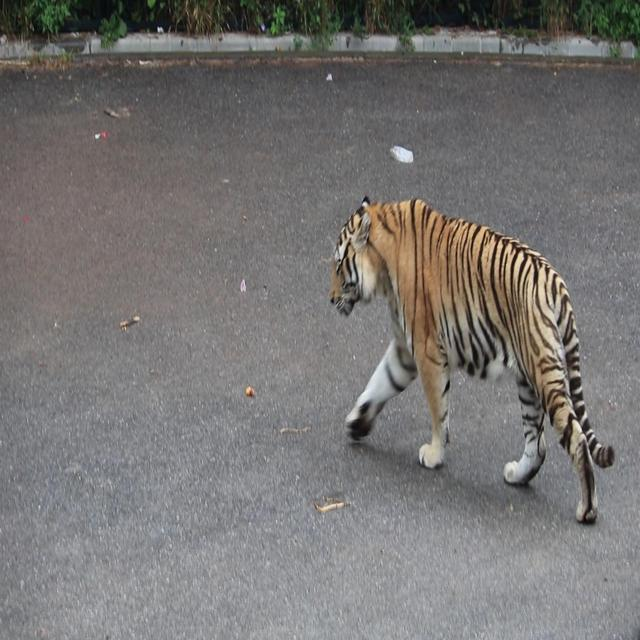tiger: (327, 194, 615, 524)
